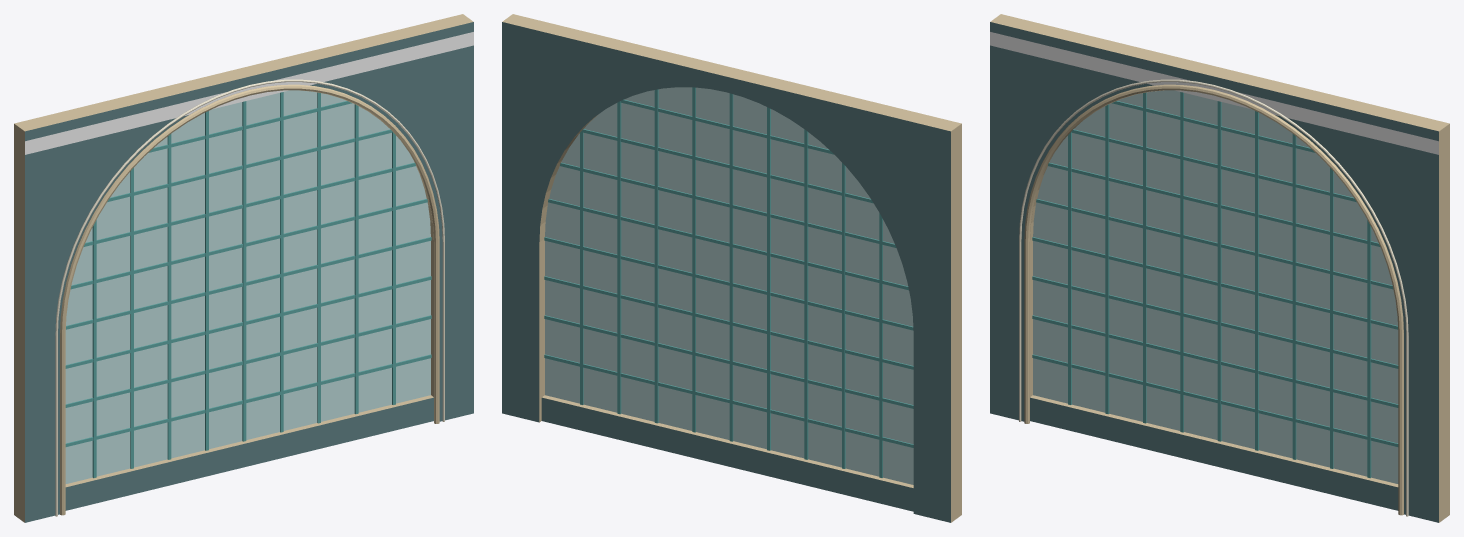
File: KC32__AD_Arc_Window_Arch_Grid.glb
3 views of the same model, side by side, from view 1: azimuth 30°, elevation 25°; view 2: azimuth 150°, elevation 25°; view 3: azimuth 330°, elevation 25° (orthographic).
Parts seen in each view (by area): view 1: KC32_VITRAGE__AD_Arc_Window_Arch_Grid, KC32_CORPS__AD_Arc_Window_Arch_Grid, KC32_BRONZE__AD_Arc_Window_Arch_Grid, KC32_ACCENT__AD_Arc_Window_Arch_Grid, KC32_LUMIERE__AD_Arc_Window_Arch_Grid; view 2: KC32_VITRAGE__AD_Arc_Window_Arch_Grid, KC32_CORPS__AD_Arc_Window_Arch_Grid, KC32_BRONZE__AD_Arc_Window_Arch_Grid; view 3: KC32_VITRAGE__AD_Arc_Window_Arch_Grid, KC32_CORPS__AD_Arc_Window_Arch_Grid, KC32_BRONZE__AD_Arc_Window_Arch_Grid, KC32_ACCENT__AD_Arc_Window_Arch_Grid, KC32_LUMIERE__AD_Arc_Window_Arch_Grid.
Part boxes in pixels (box(x1,y1,x2,y2)): KC32_VITRAGE__AD_Arc_Window_Arch_Grid: box(65, 90, 430, 483); KC32_CORPS__AD_Arc_Window_Arch_Grid: box(25, 22, 473, 522); KC32_BRONZE__AD_Arc_Window_Arch_Grid: box(14, 14, 473, 522); KC32_ACCENT__AD_Arc_Window_Arch_Grid: box(25, 32, 473, 154); KC32_LUMIERE__AD_Arc_Window_Arch_Grid: box(55, 79, 444, 516); KC32_VITRAGE__AD_Arc_Window_Arch_Grid: box(545, 87, 913, 484); KC32_CORPS__AD_Arc_Window_Arch_Grid: box(502, 22, 950, 522); KC32_BRONZE__AD_Arc_Window_Arch_Grid: box(502, 14, 961, 522); KC32_VITRAGE__AD_Arc_Window_Arch_Grid: box(1033, 90, 1398, 483); KC32_CORPS__AD_Arc_Window_Arch_Grid: box(990, 22, 1438, 522); KC32_BRONZE__AD_Arc_Window_Arch_Grid: box(990, 14, 1449, 522); KC32_ACCENT__AD_Arc_Window_Arch_Grid: box(990, 32, 1438, 154); KC32_LUMIERE__AD_Arc_Window_Arch_Grid: box(1019, 79, 1408, 516).
Bounding box in the file's own units: 12 × 10 × 0.59.
